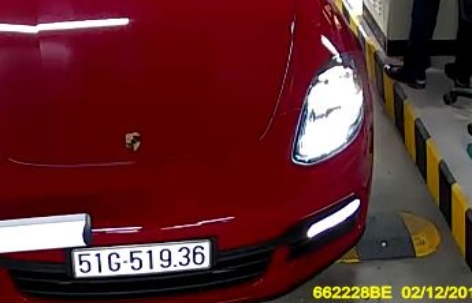plate: (69, 243, 210, 270)
